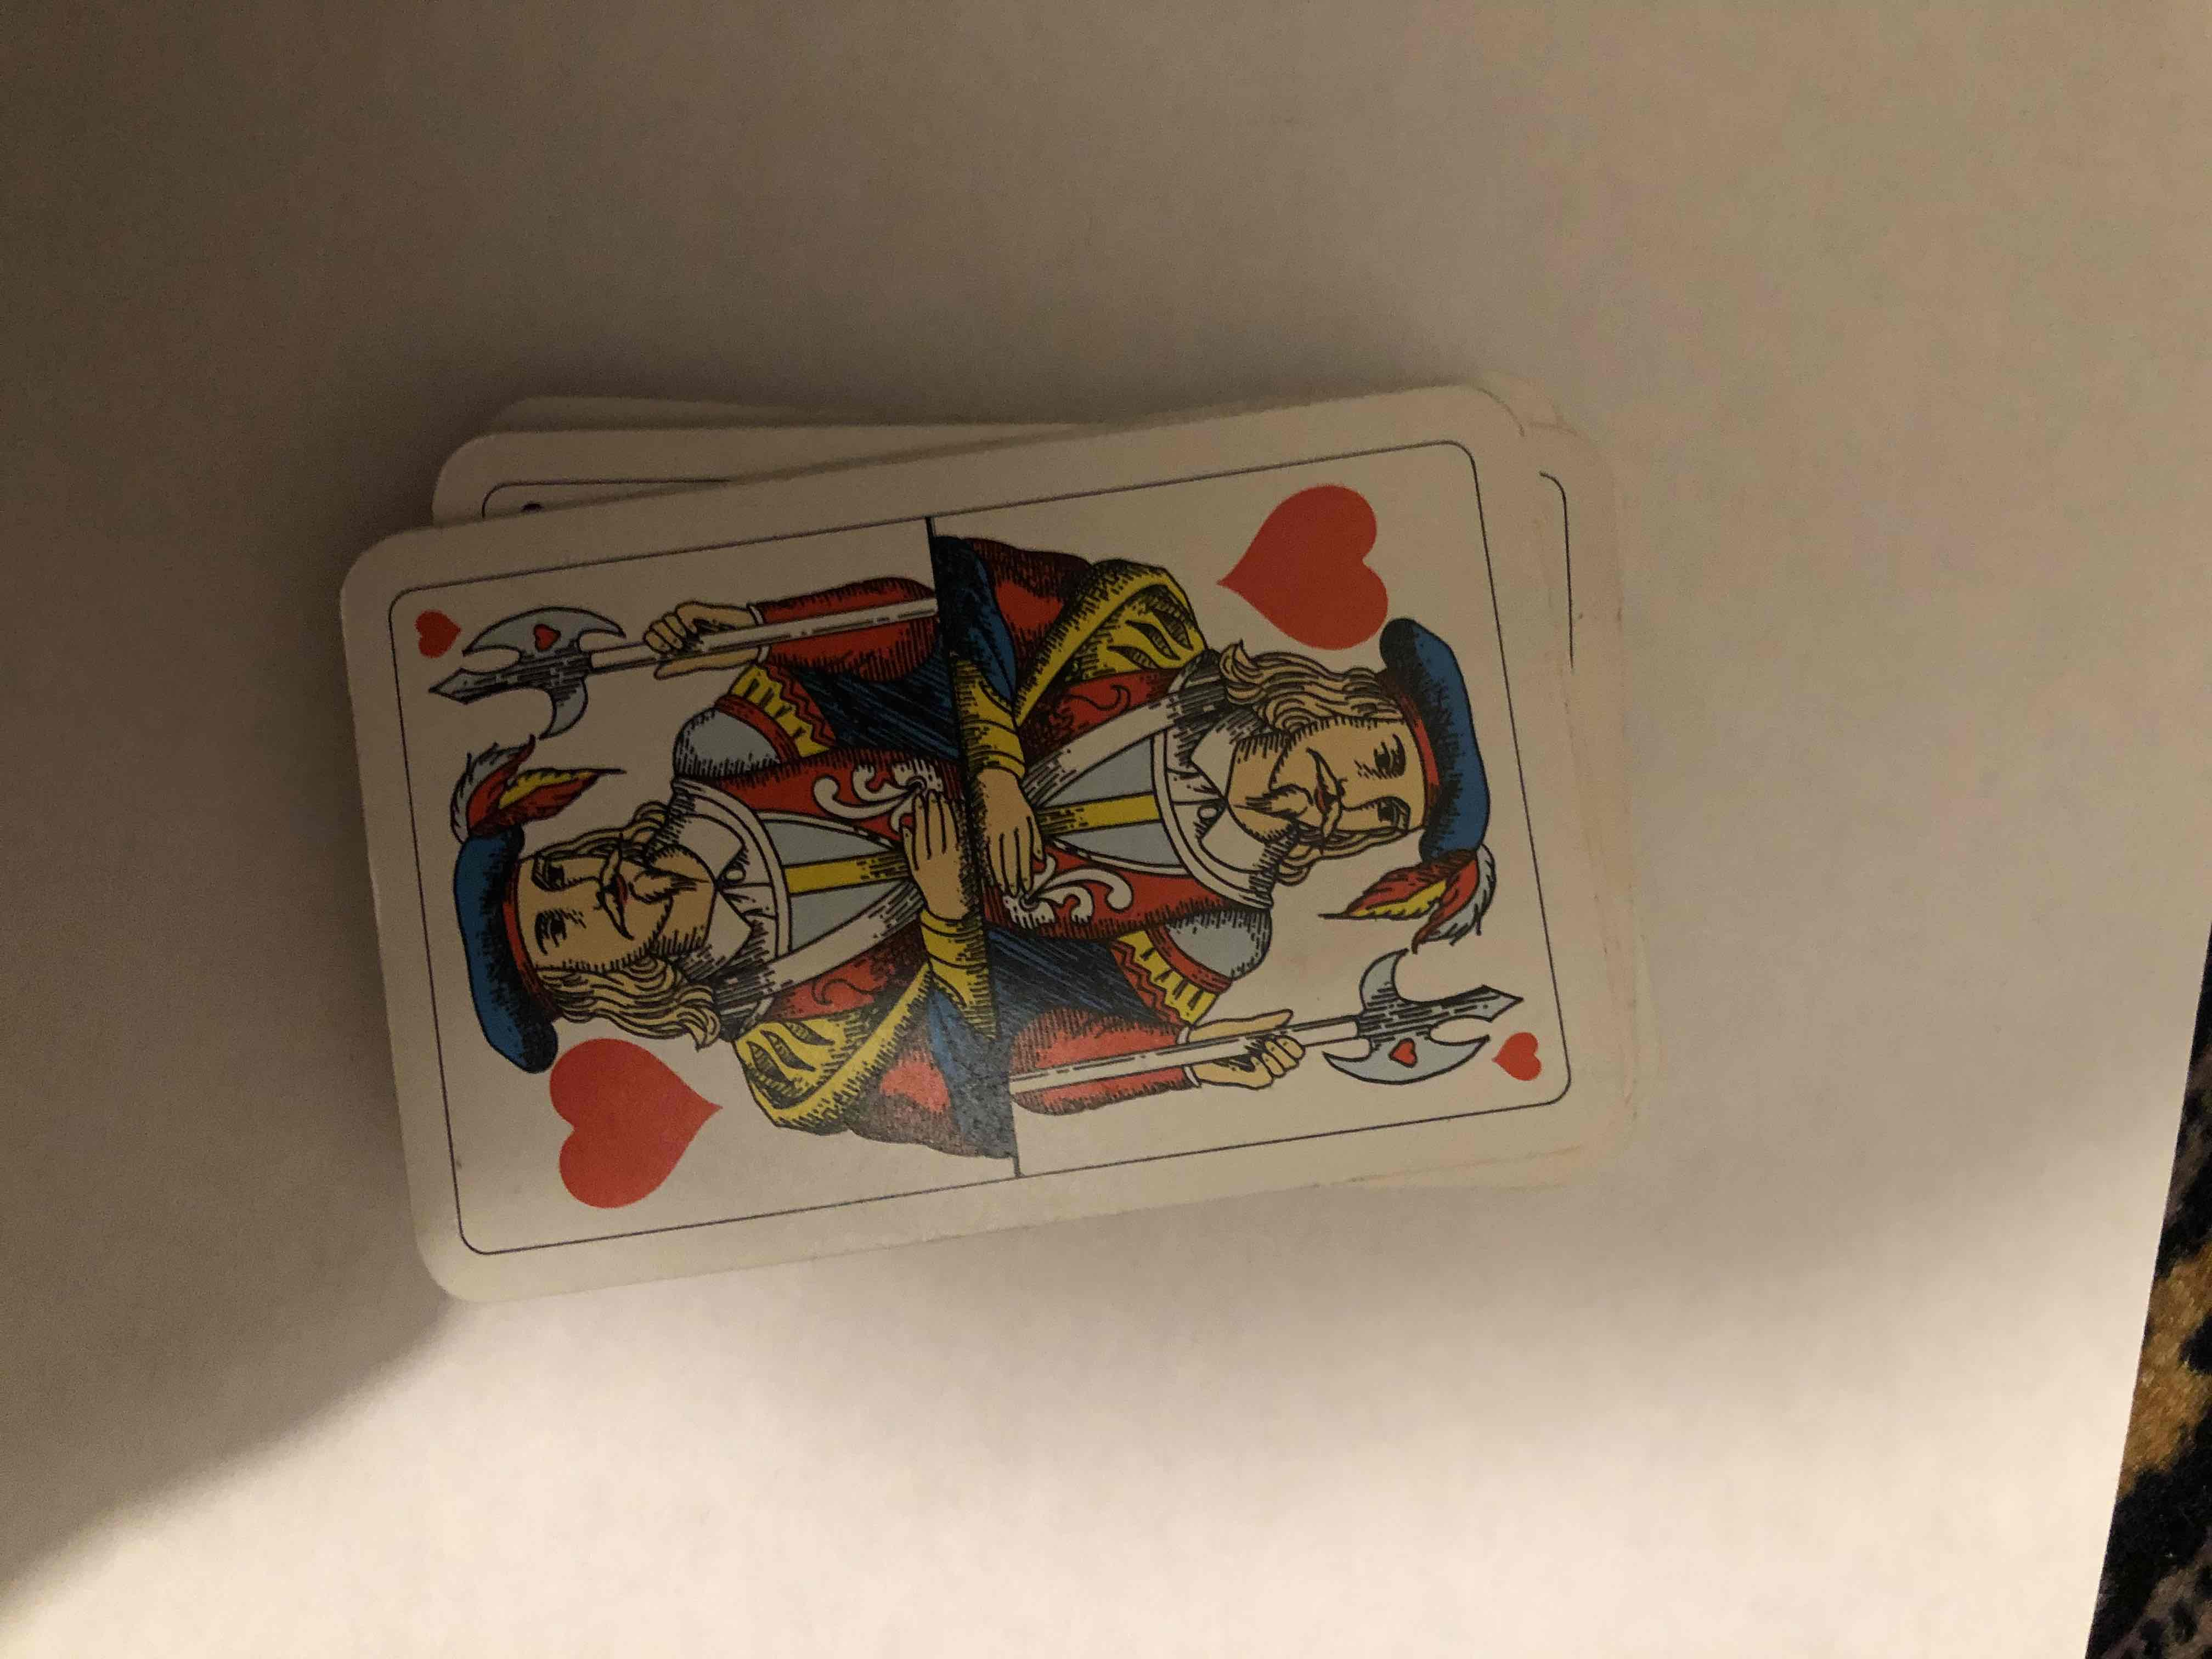heartsJack: (350, 443, 1632, 1258)
